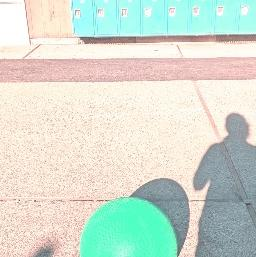algae: (77, 196, 178, 257)
